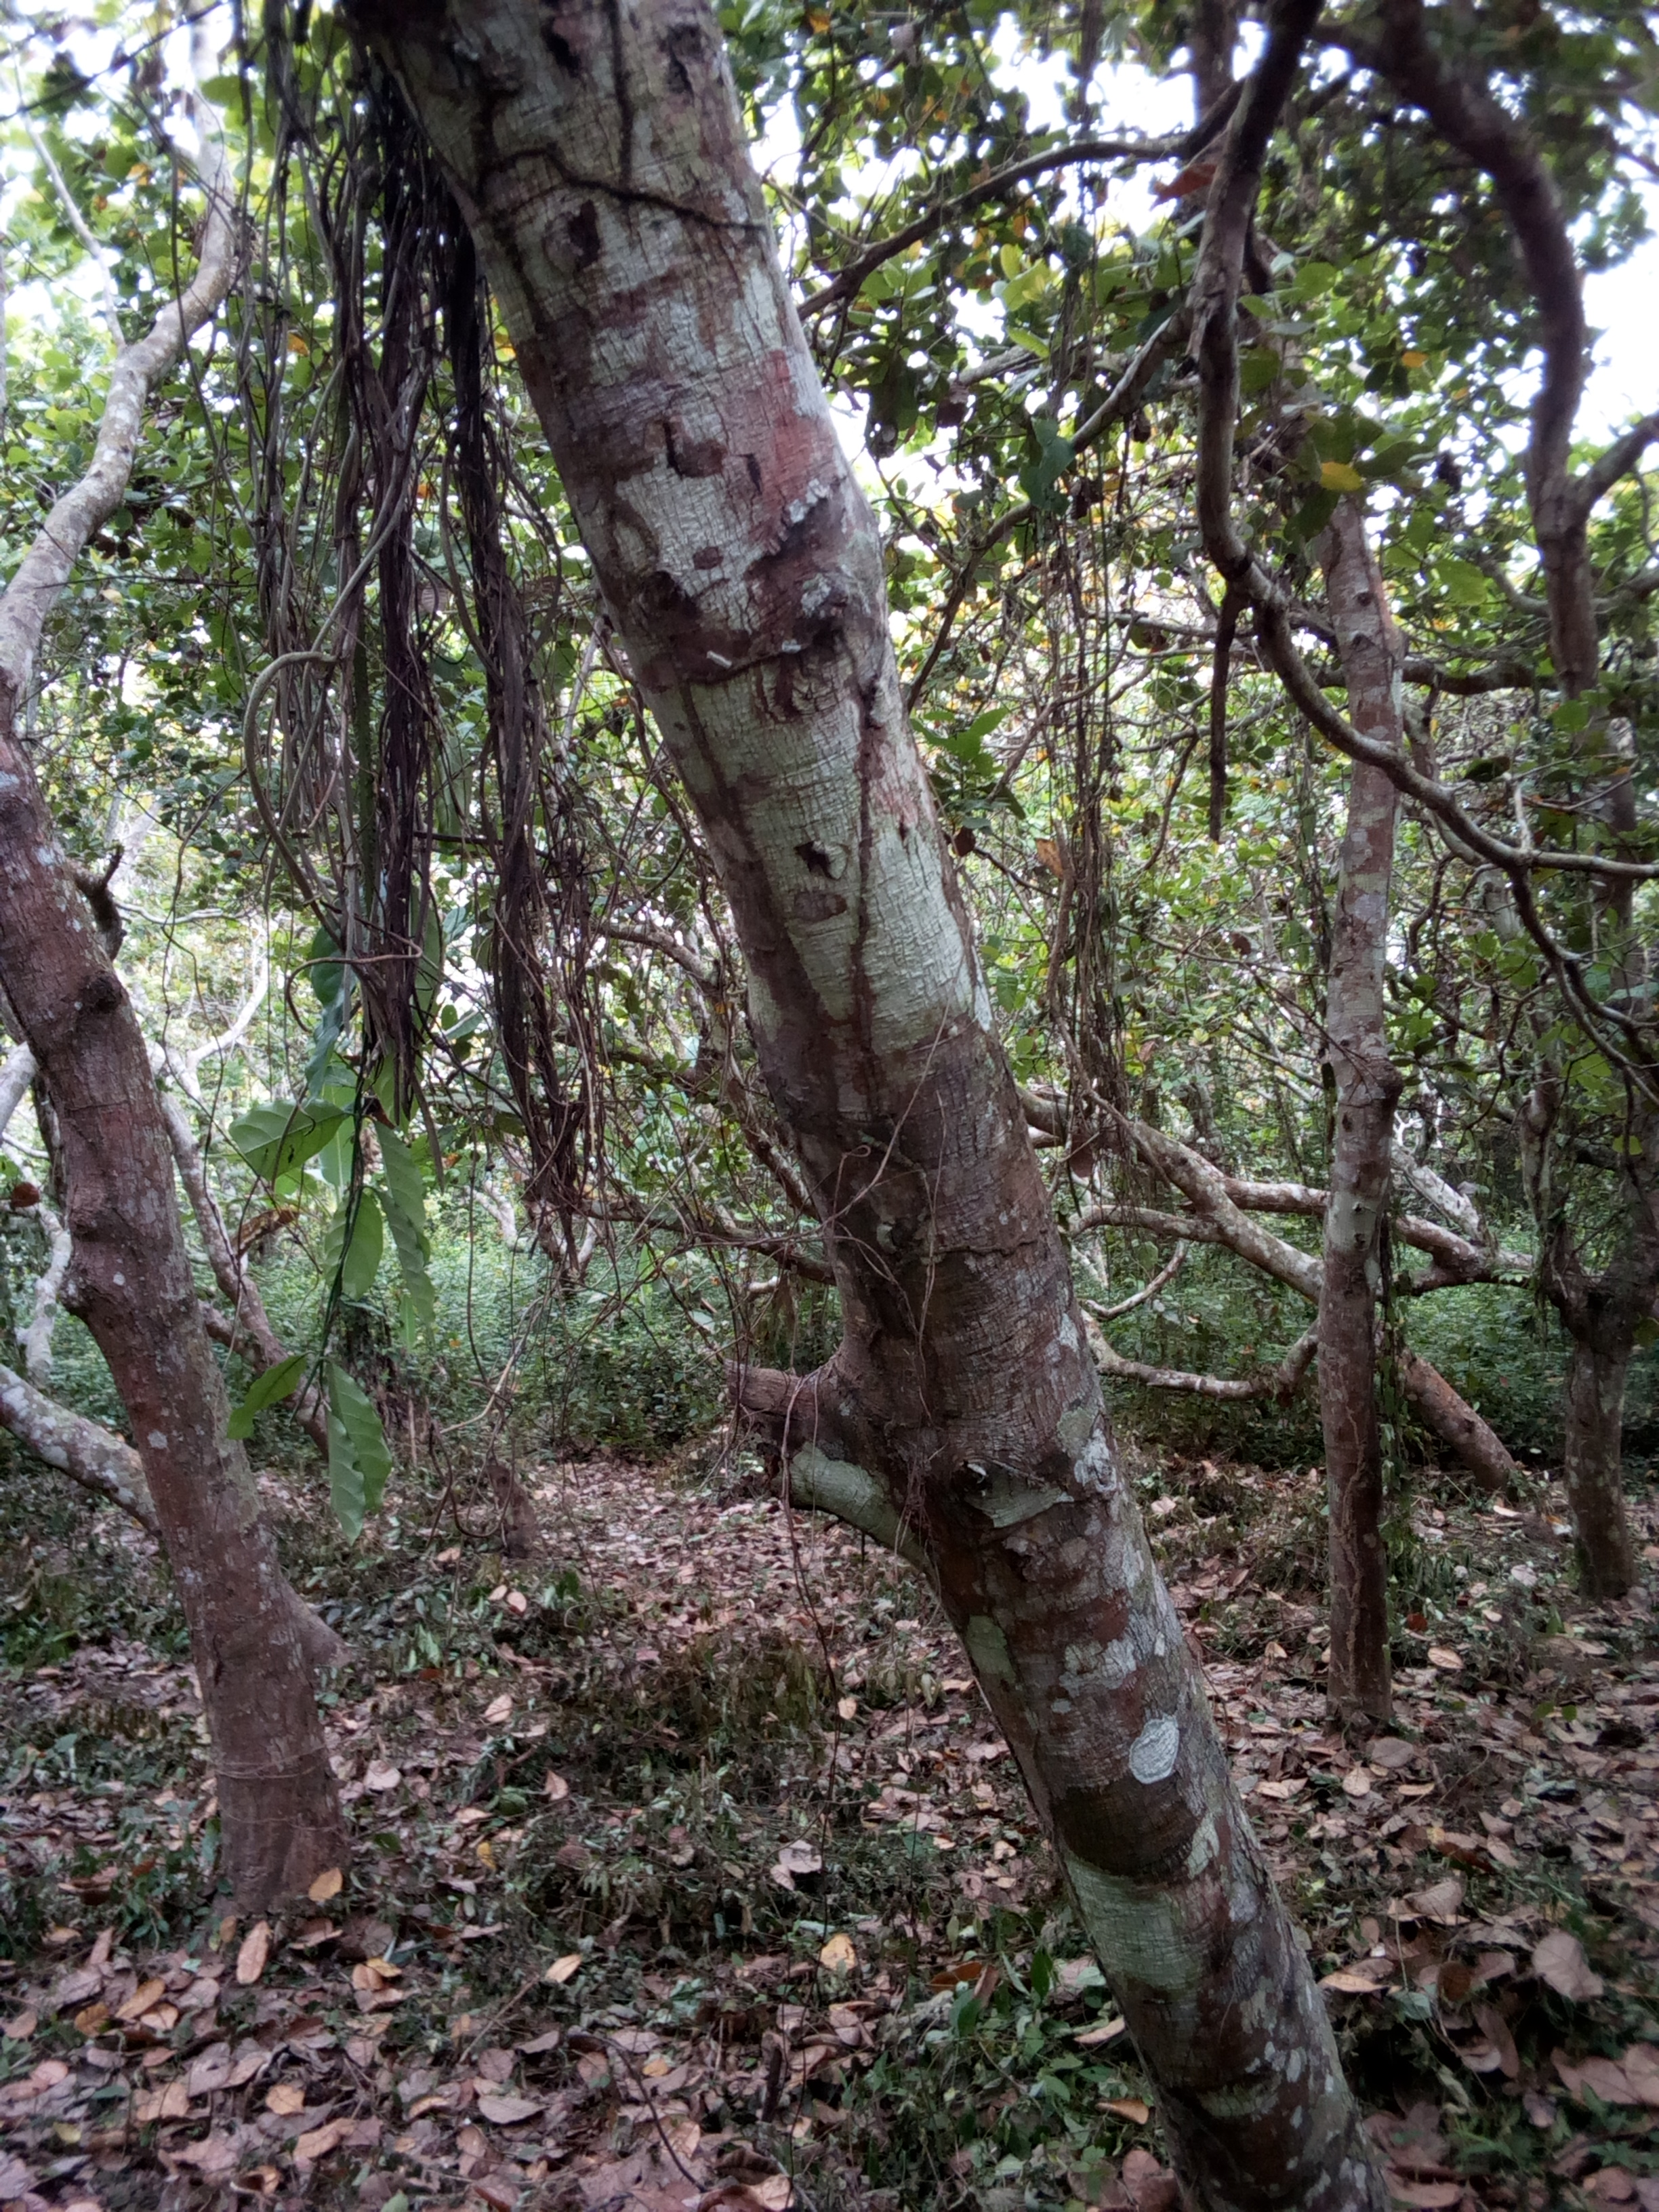Termites: (725, 726, 951, 1198)
